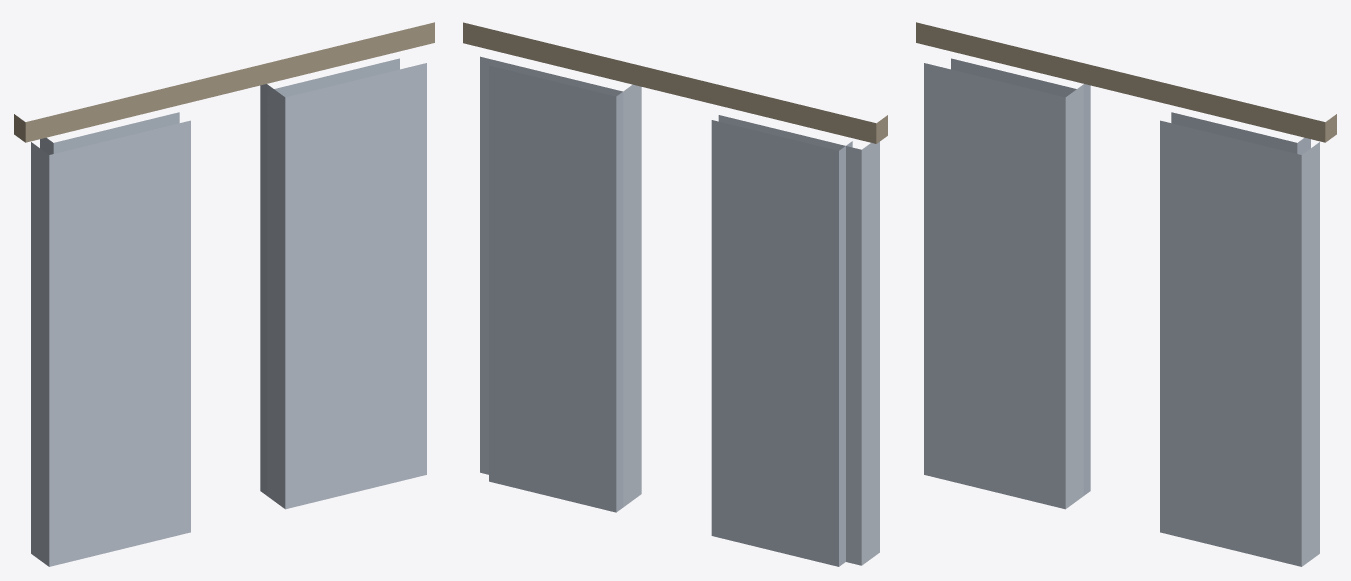
Rendered from curtain.glb.
The picture shows the model from 3 angles, left to right: view 1: azimuth 30°, elevation 25°; view 2: azimuth 150°, elevation 25°; view 3: azimuth 330°, elevation 25°; orthographic projection.
Size of the model in its own units: 1.04 by 1.08 by 0.11.
